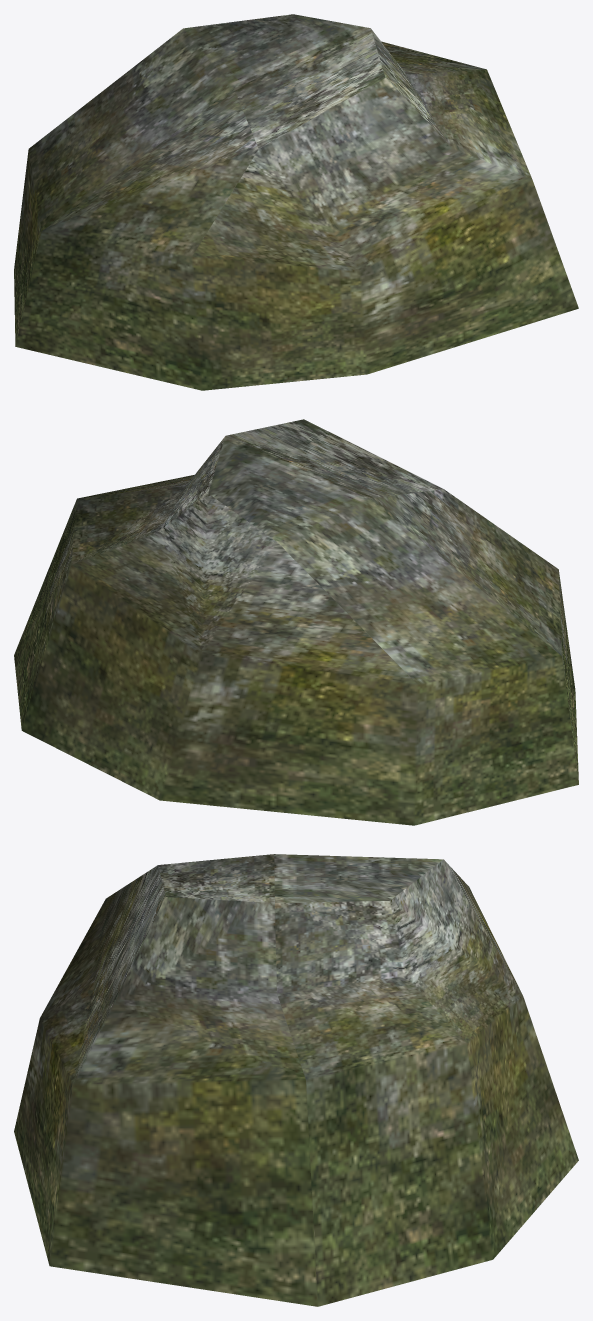
Rendered from OZ_05_nk_rock02B.glb.
3 renders of one model, top to bottom at view 1: azimuth 30°, elevation 25°; view 2: azimuth 150°, elevation 25°; view 3: azimuth 270°, elevation 25°, orthographic. The views are drawn at different scales.
Visible parts, largest first — view 1: OM_05_nk_rock02B; view 2: OM_05_nk_rock02B; view 3: OM_05_nk_rock02B.
Part boxes in pixels (bbox=[...]): OM_05_nk_rock02B: bbox=[14, 14, 578, 390]; OM_05_nk_rock02B: bbox=[14, 419, 578, 825]; OM_05_nk_rock02B: bbox=[14, 854, 578, 1306].
Bounding box in the file's own units: 2.82 × 1.23 × 2.14.
1 material, 1 textured.
